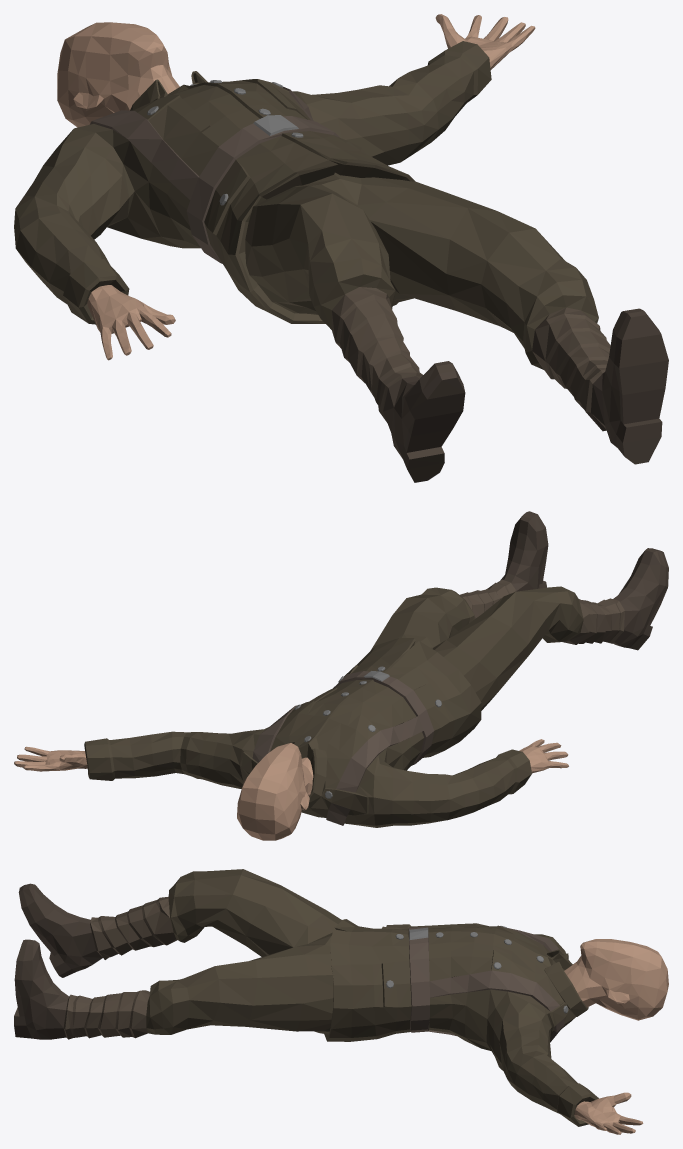
File: Cha_Soldier_Eng_Dead_01.fbx
3 views of the same model, one above another, from view 1: azimuth 30°, elevation 25°; view 2: azimuth 150°, elevation 25°; view 3: azimuth 270°, elevation 25° (orthographic). The views are drawn at different scales.
Parts seen in each view (by area): view 1: Cha_Soldier_Eng_Dead_01_LOD0; view 2: Cha_Soldier_Eng_Dead_01_LOD0; view 3: Cha_Soldier_Eng_Dead_01_LOD0.
Part boxes in pixels (left/top/right/bottom): Cha_Soldier_Eng_Dead_01_LOD0: left=14, top=14, right=668, bottom=482; Cha_Soldier_Eng_Dead_01_LOD0: left=14, top=511, right=668, bottom=840; Cha_Soldier_Eng_Dead_01_LOD0: left=14, top=869, right=668, bottom=1134.
Size of what is drawn, in the model's own units: 131 by 40.47 by 179.
